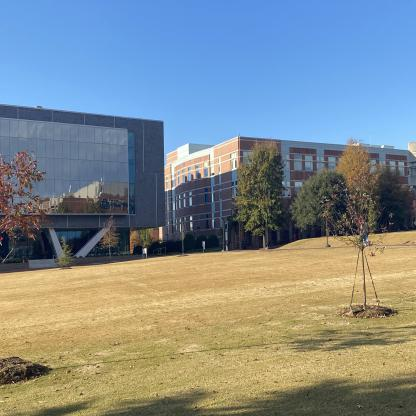EB-1: (164, 134, 416, 248)
